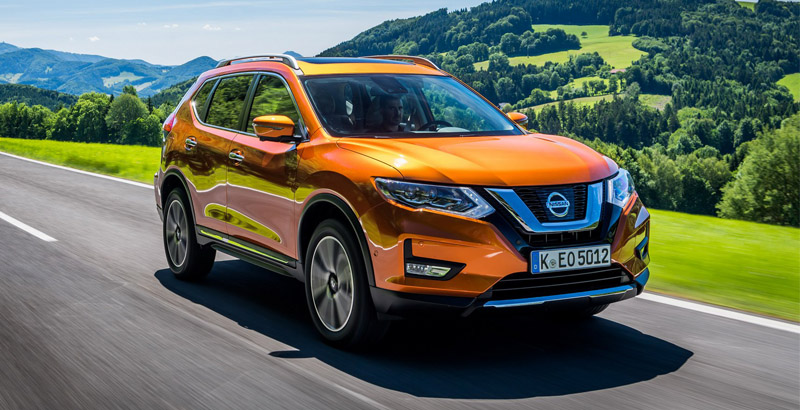pickup: (153, 51, 657, 350)
